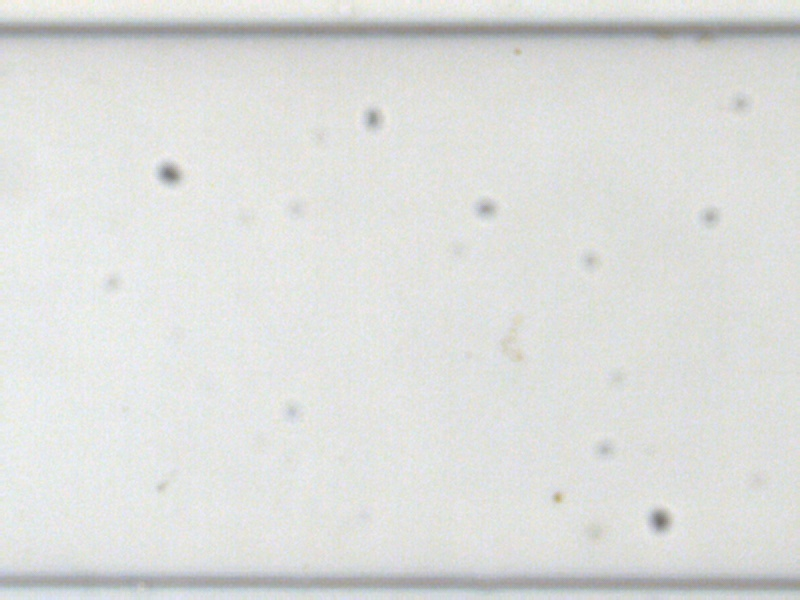Chlorella: (154, 475, 169, 493), (552, 490, 564, 502), (512, 46, 521, 55)
